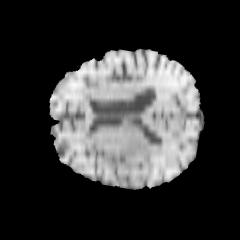glioma: (115, 141, 157, 175)
